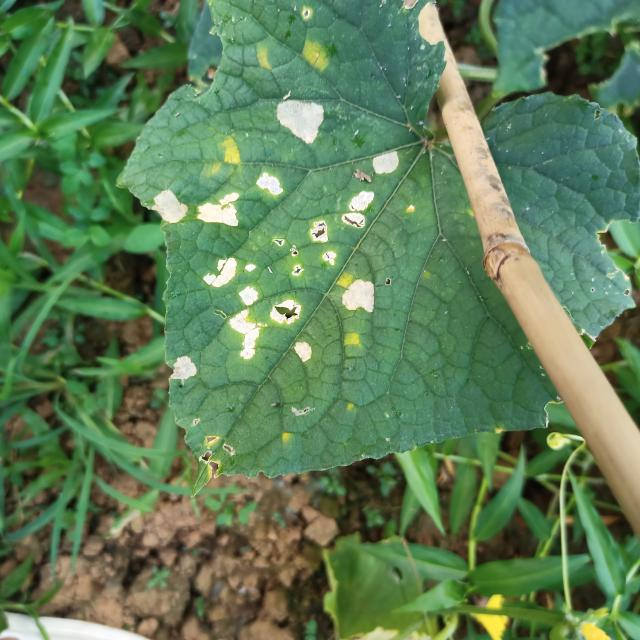disease_cucumber: (194, 236, 320, 373), (305, 188, 377, 272), (154, 188, 243, 234), (272, 90, 328, 151), (340, 280, 379, 322), (295, 38, 335, 78), (362, 147, 409, 180), (210, 133, 244, 172), (246, 45, 284, 79), (256, 169, 289, 201), (170, 351, 200, 386), (338, 329, 365, 351), (333, 270, 352, 288)
